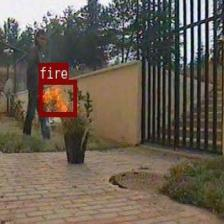fire: (38, 80, 76, 116)
